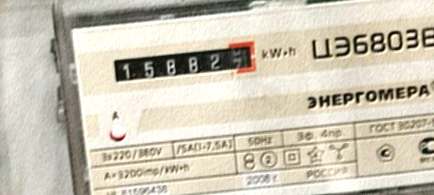1: (121, 62, 133, 80)
2: (209, 52, 221, 70)
5: (142, 60, 155, 78)
7: (231, 56, 243, 70)
8: (165, 57, 177, 75), (188, 56, 199, 72)
screen: (106, 38, 264, 87)
